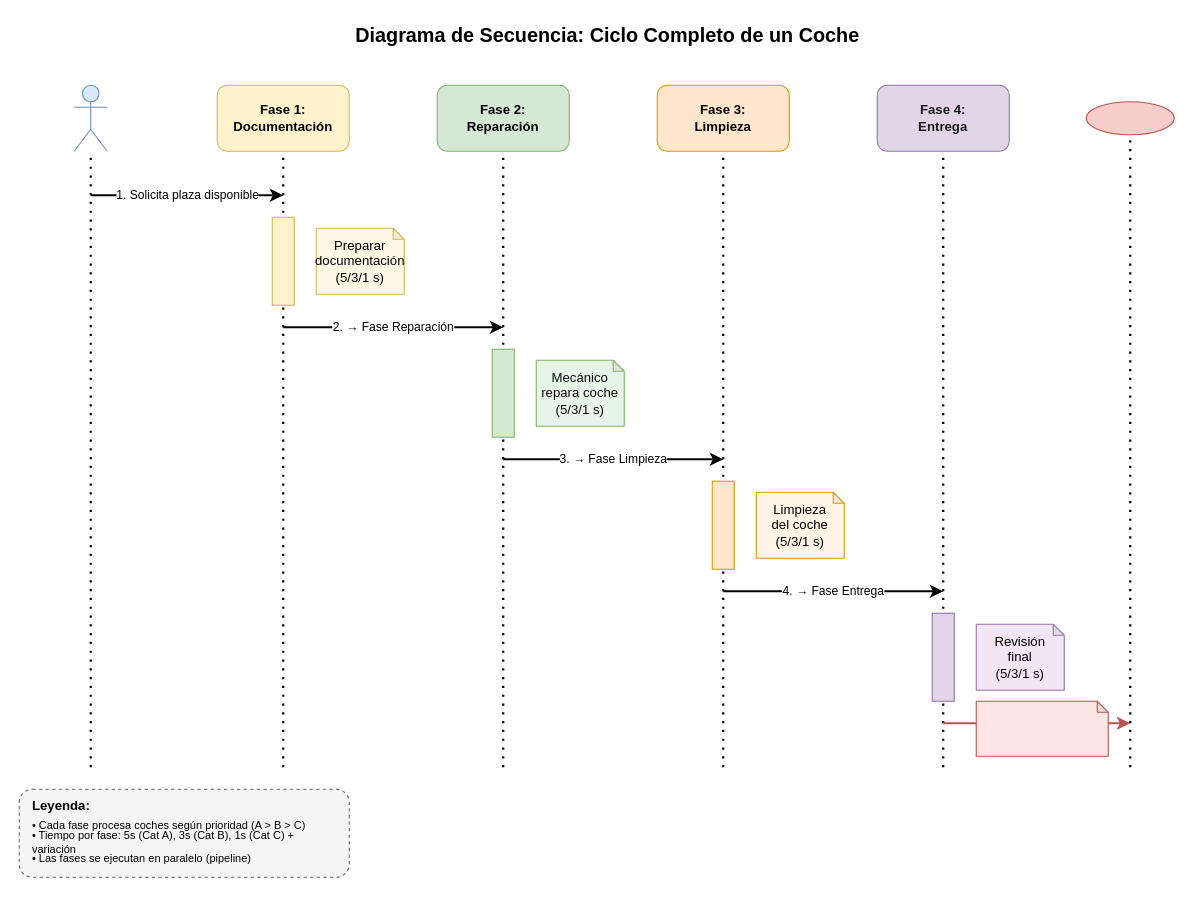
Image size: 1194x897. Some labels were removed from this diagram. The shapes that lost their labels are listed below. From the top down, each one's centre as x and y in pixels, then its label:
At point 90,117: "Coche".
At point 1129,118: "Salida".
At point 1041,728: "✓ Plaza liberada ✓ WaitGroup.Done()".
